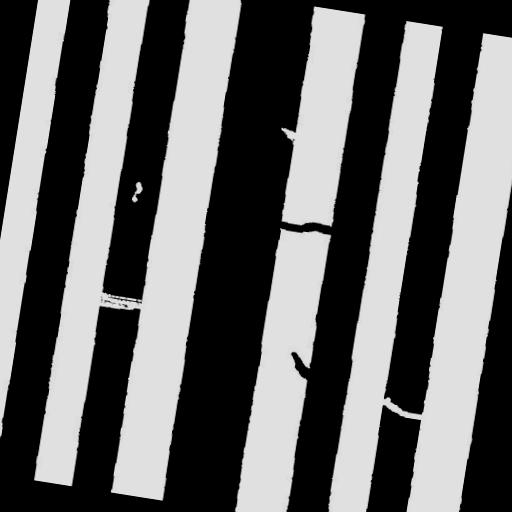mousebite: (269, 118, 306, 153)
open: (364, 386, 434, 428), (86, 282, 152, 320)
pin-hole: (122, 172, 151, 211)
short: (269, 208, 344, 246)
spur: (278, 342, 326, 389)
